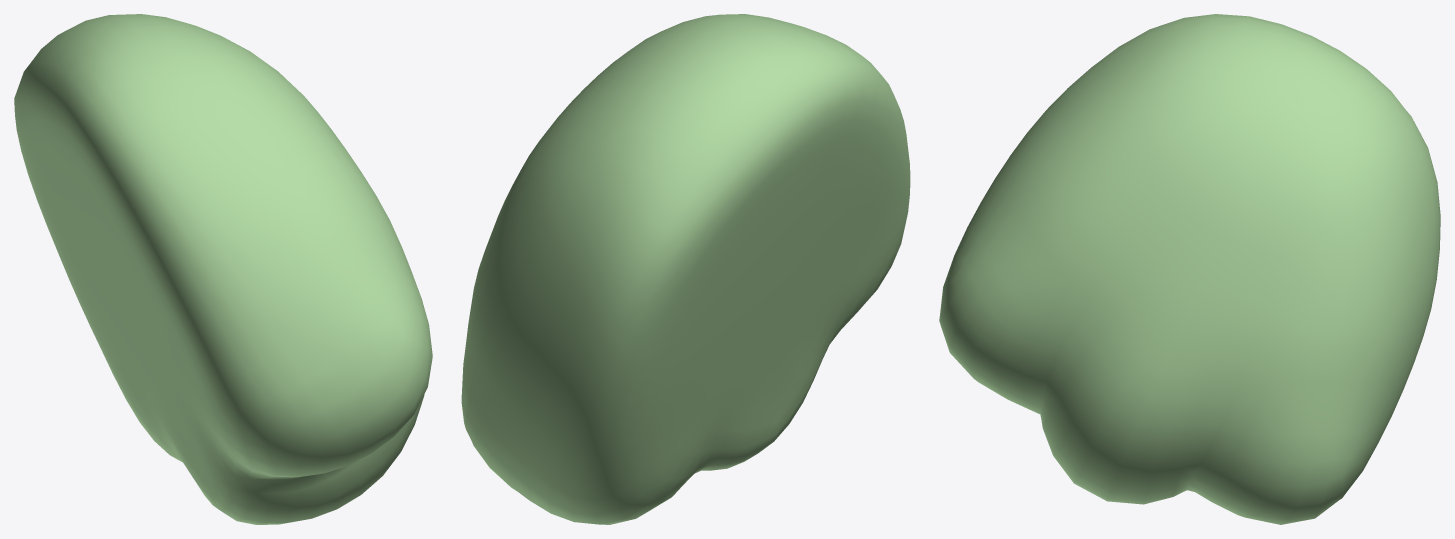
The model's file is SM_ FE_Char_Dog_Left_Hand.fbx.
3 renders of one model, left to right at view 1: azimuth 30°, elevation 25°; view 2: azimuth 150°, elevation 25°; view 3: azimuth 270°, elevation 25°, orthographic. The views are drawn at different scales.
Parts seen in each view (by area): view 1: Right hand; view 2: Right hand; view 3: Right hand.
Boxes of the visible parts, x1,y1,x2,y2 form: Right hand: [14, 14, 432, 524]; Right hand: [461, 14, 910, 524]; Right hand: [939, 14, 1440, 524].
Bounding box in the file's own units: 20.52 × 29.71 × 30.99.
